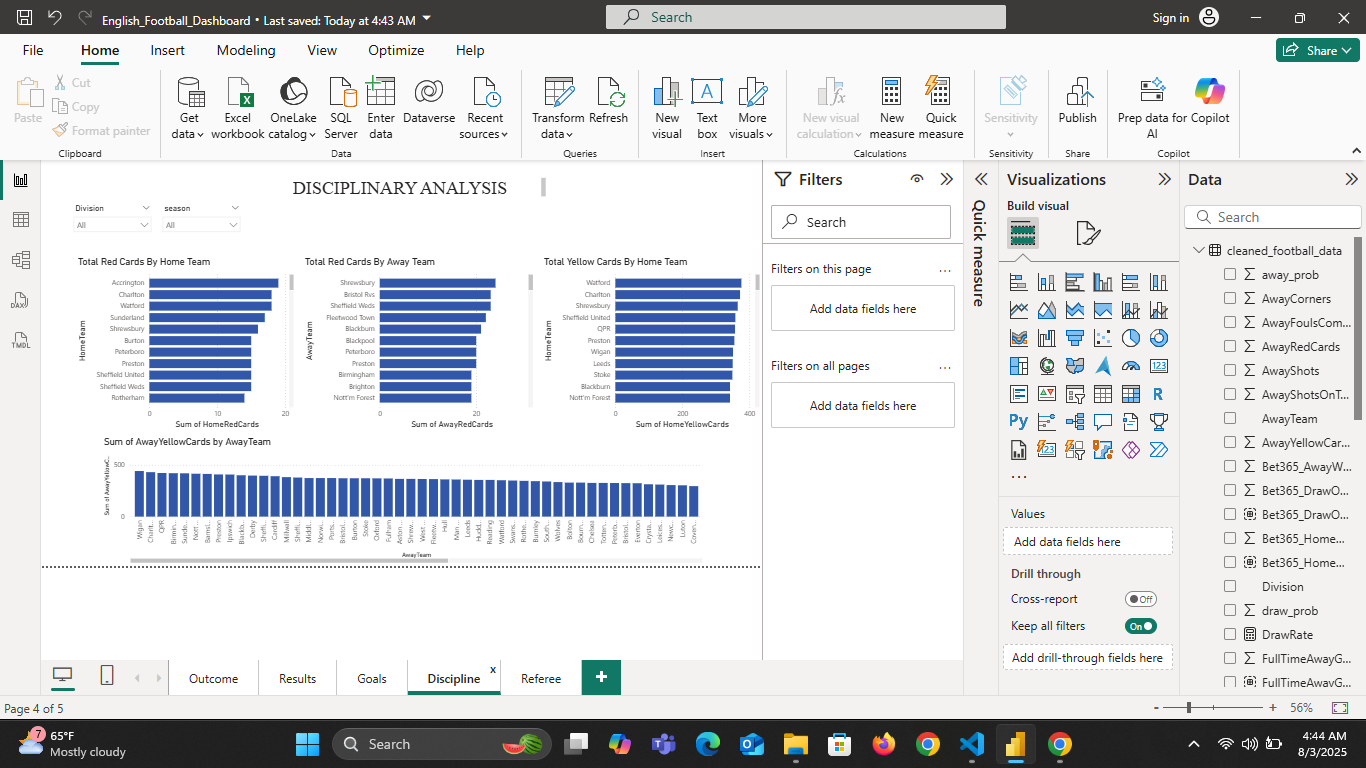

This screenshot's page, from the dashboard's own definition file:
{"tool":"powerbi","page":{"name":"Discipline","canvas":[1280,720],"ordinal":3},"visuals":[{"type":"textbox","box":[441.8,26.9,458.6,45.4],"z":0},{"type":"clusteredBarChart","title":"Total Red Cards By Home Team","fields":{"Y":["Sum(cleaned_football_data.HomeRedCards)"],"Category":["cleaned_football_data.HomeTeam"]},"box":[60.5,169.7,393.1,310.8],"z":1000},{"type":"slicer","fields":{"Values":["cleaned_football_data.Division"]},"box":[48.7,72.2,157.9,97.4],"z":2000},{"type":"clusteredBarChart","title":"Total Red Cards By Away Team","fields":{"Category":["cleaned_football_data.AwayTeam"],"Y":["Sum(cleaned_football_data.AwayRedCards)"]},"box":[463.6,169.7,414.9,310.8],"z":3000},{"type":"slicer","fields":{"Values":["cleaned_football_data.season"]},"box":[206.6,72.2,157.9,97.4],"z":4000},{"type":"clusteredBarChart","title":"Total Yellow Cards By Home Team","fields":{"Y":["Sum(cleaned_football_data.HomeYellowCards)"],"Category":["cleaned_football_data.HomeTeam"]},"box":[886.9,169.7,393.1,310.8],"z":5000},{"type":"clusteredColumnChart","fields":{"Y":["Sum(cleaned_football_data.AwayYellowCards)"],"Category":["cleaned_football_data.AwayTeam"]},"box":[105.8,490.5,1073.4,230.1],"z":6000}]}

Visuals, with their boxes on the page's 1280x720 design canvas (x1, y1, x2, y2). These are canvas units, not pixel positions in the 1366x768 screenshot, which may show the page scaled, cropped or inside an application window:
textbox: [left=442, top=27, right=900, bottom=72]
"Total Red Cards By Home Team" clusteredBarChart: [left=60, top=170, right=454, bottom=480]
slicer - cleaned_football_data.Division: [left=49, top=72, right=207, bottom=170]
"Total Red Cards By Away Team" clusteredBarChart: [left=464, top=170, right=878, bottom=480]
slicer - cleaned_football_data.season: [left=207, top=72, right=364, bottom=170]
"Total Yellow Cards By Home Team" clusteredBarChart: [left=887, top=170, right=1280, bottom=480]
clusteredColumnChart - Sum(cleaned_football_data.AwayYellowCards) x cleaned_football_data.AwayTeam: [left=106, top=490, right=1179, bottom=721]
